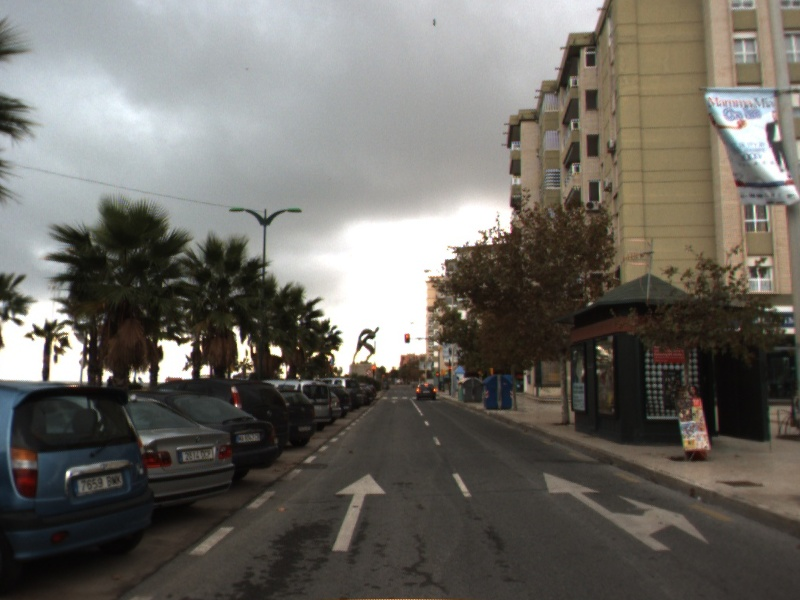STRAIGHT: (330, 471, 388, 553)
STRAIGHT_RIGHT: (541, 470, 712, 553)
